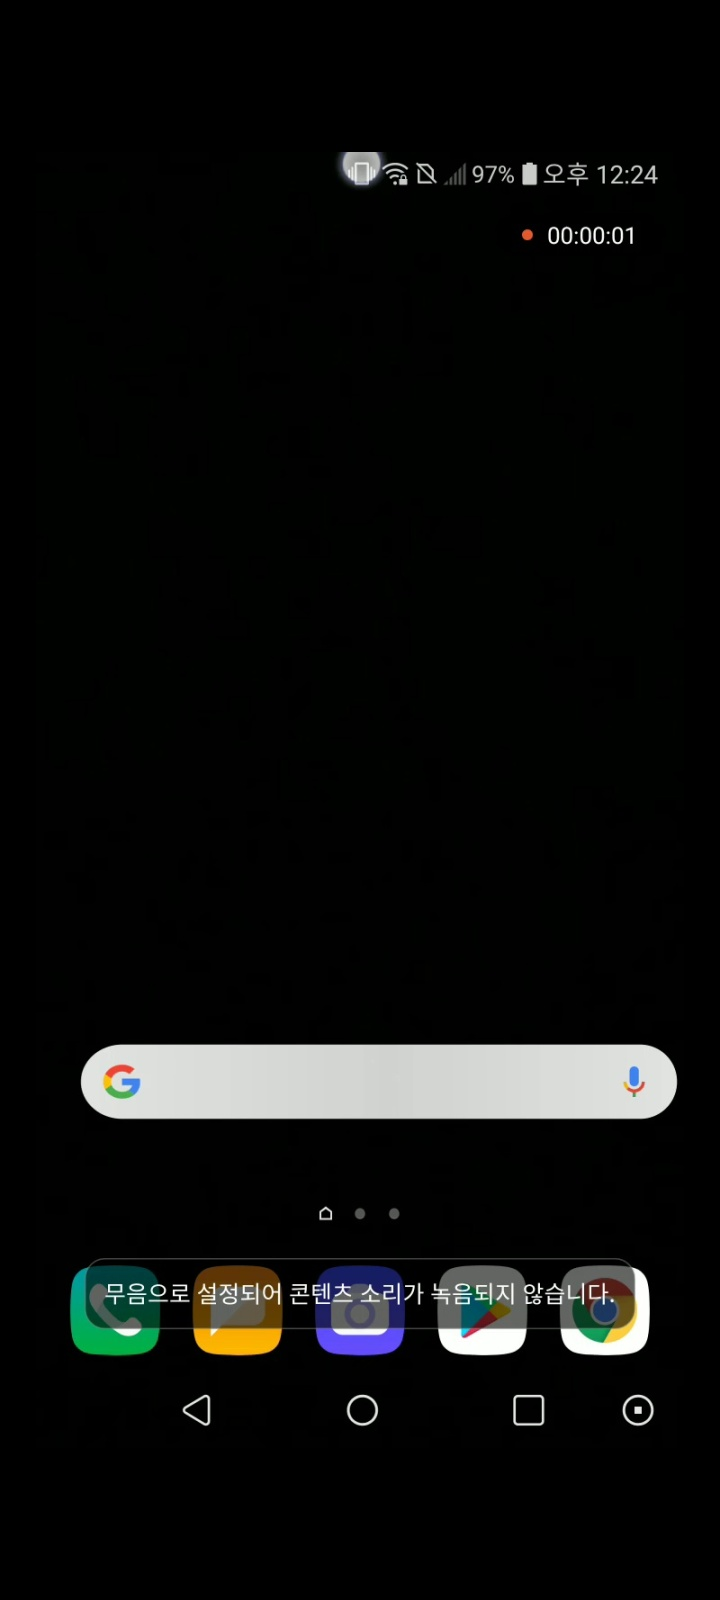Cursor: (341, 153, 384, 189)
